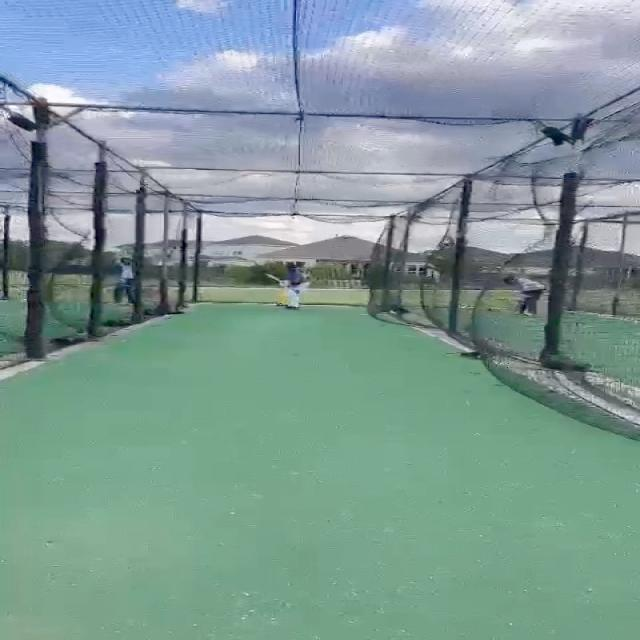batsman: (265, 264, 311, 310)
